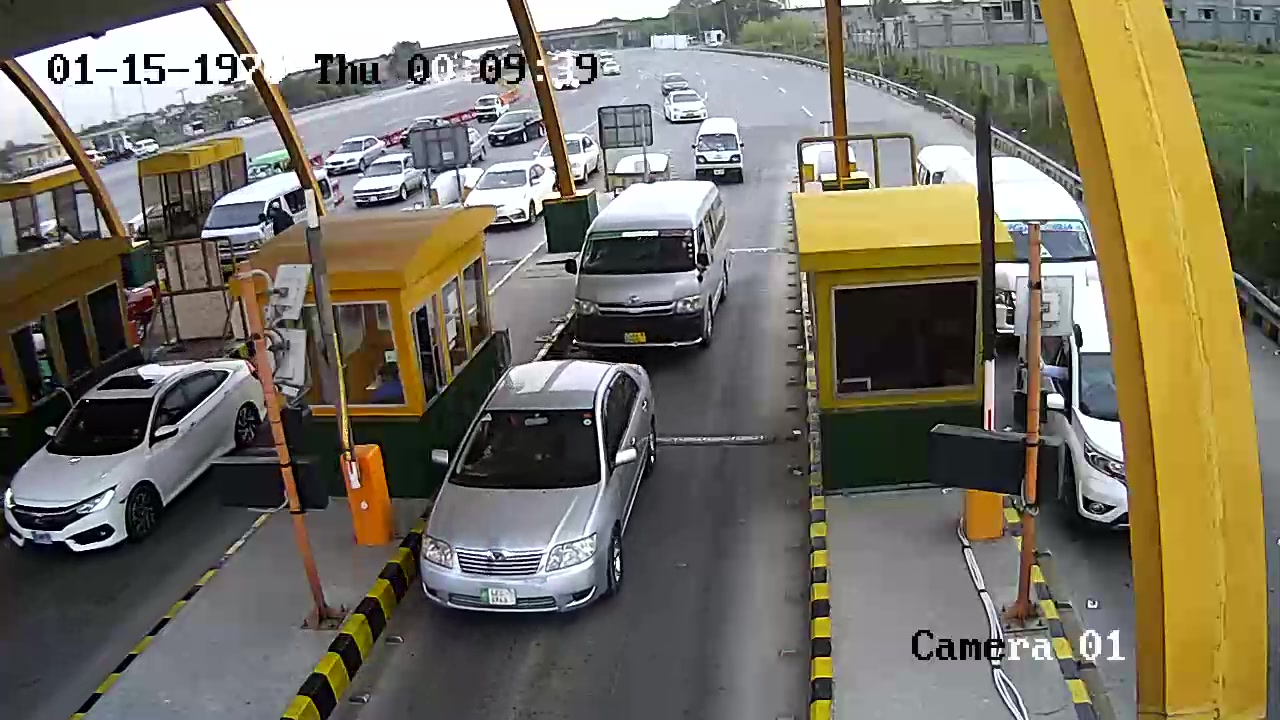F1: (408, 354, 661, 637)
F2: (569, 178, 732, 362)
